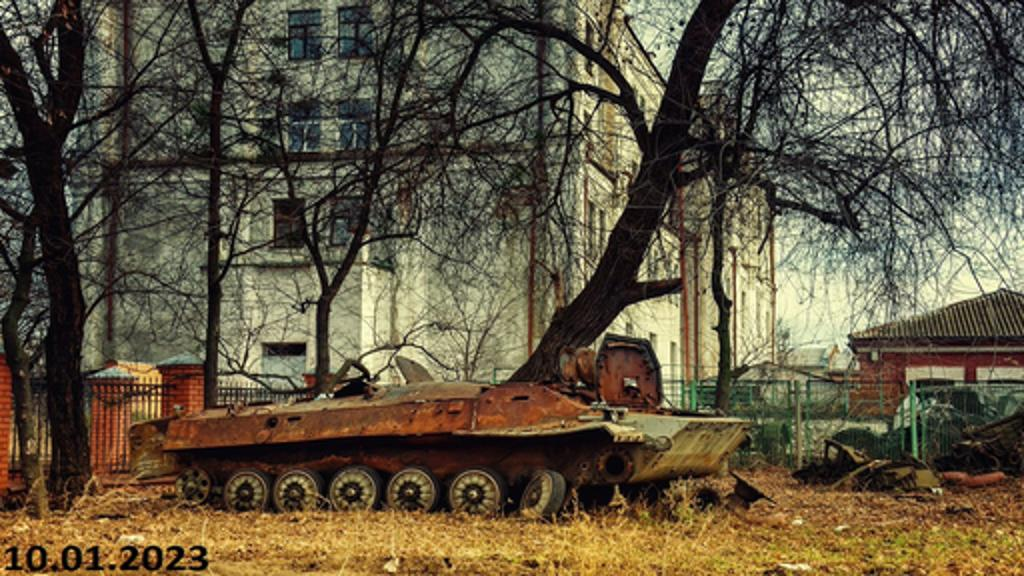APC-IFV: (132, 326, 756, 538)
